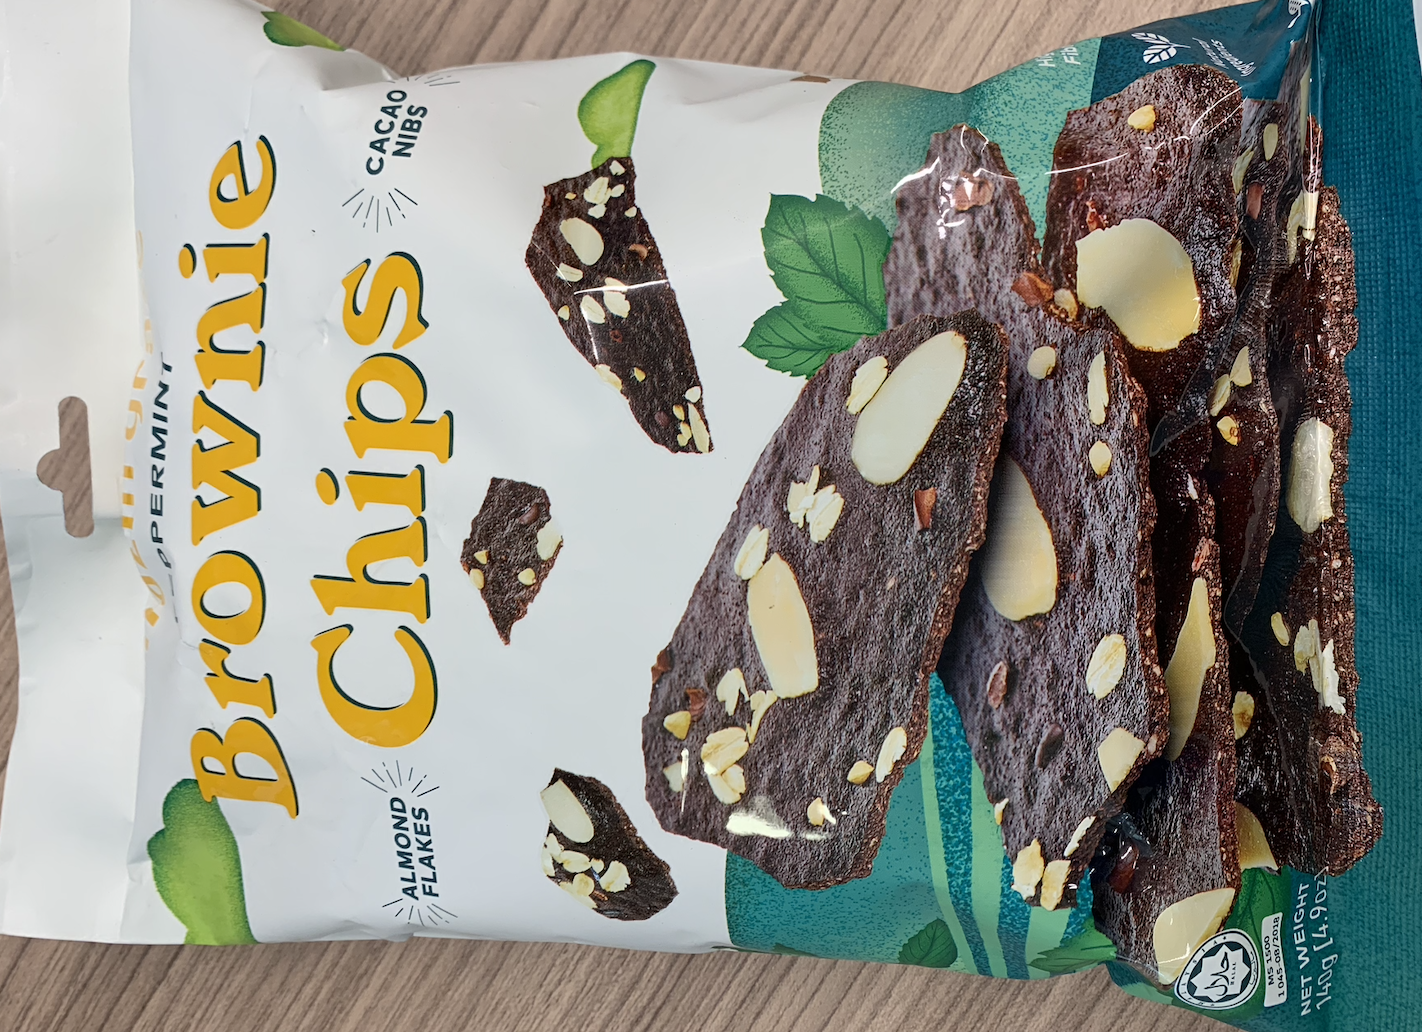cookies_150g: (93, 102, 1331, 988)
